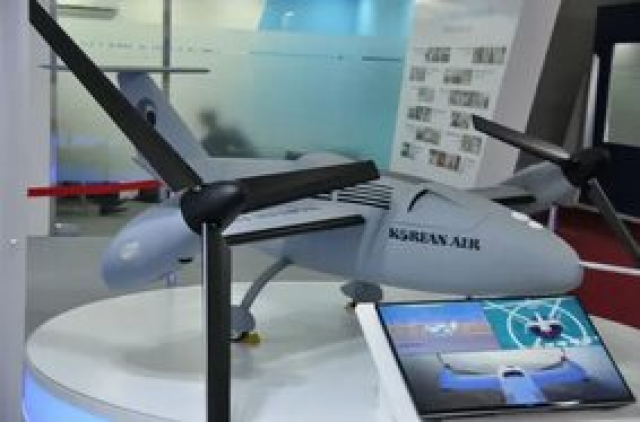military drone: (0, 0, 640, 344)
